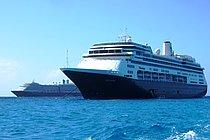Ship: (61, 28, 210, 100), (9, 80, 75, 98)
